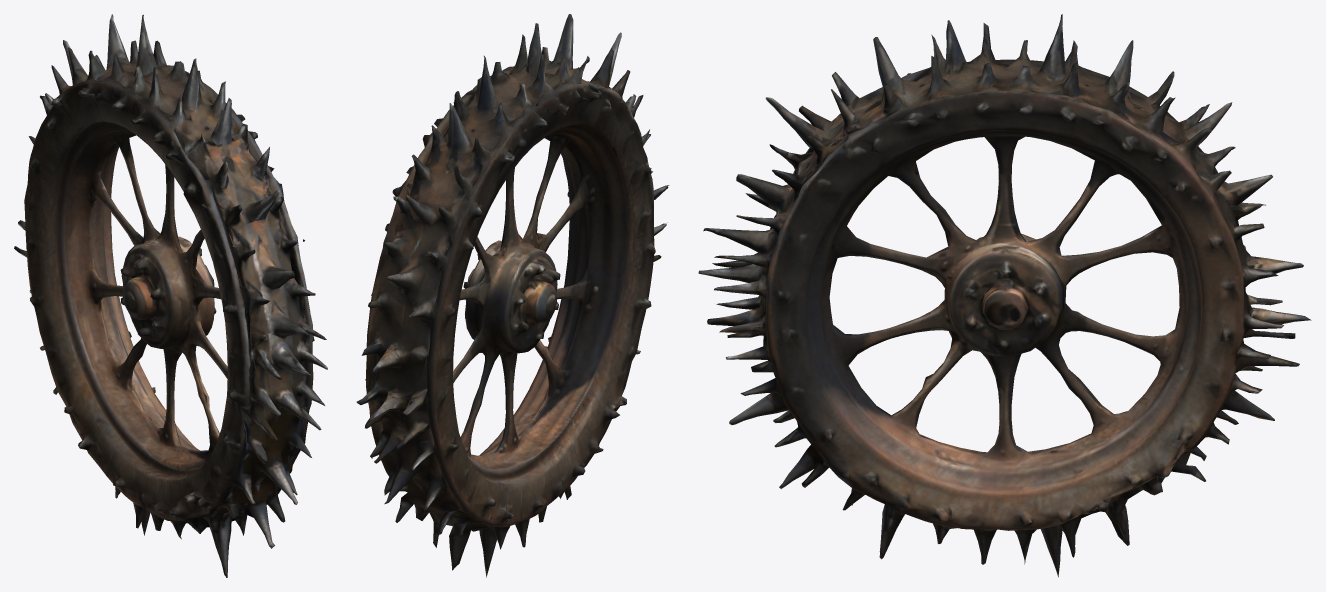
Rendered from 97ead03a-cfab-42a6-9bc1-61580270eff4.glb.
The picture shows the model from 3 angles, left to right: view 1: azimuth 30°, elevation 25°; view 2: azimuth 150°, elevation 25°; view 3: azimuth 270°, elevation 25°; orthographic projection. The views are drawn at different scales.
Bounding box in the file's own units: 0.3761 × 1.98 × 1.95.
1 material, 1 textured.
